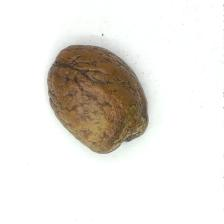NG: (44, 48, 109, 102), (104, 121, 145, 152)
